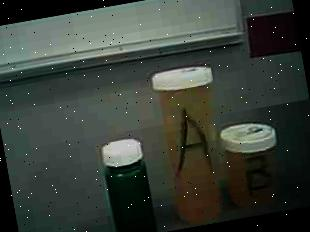Bottle A: (134, 58, 231, 230)
Bottle B: (218, 116, 294, 215)
Bottle C: (91, 131, 160, 232)
